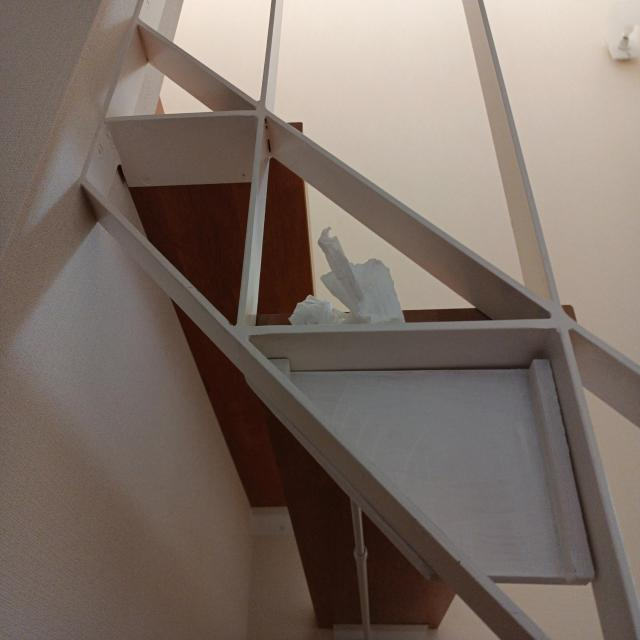Paper: (301, 226, 406, 342)
